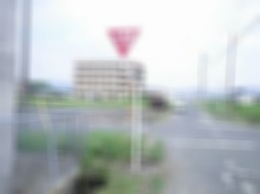Regulatory_sign_triangle: (107, 25, 142, 61)
